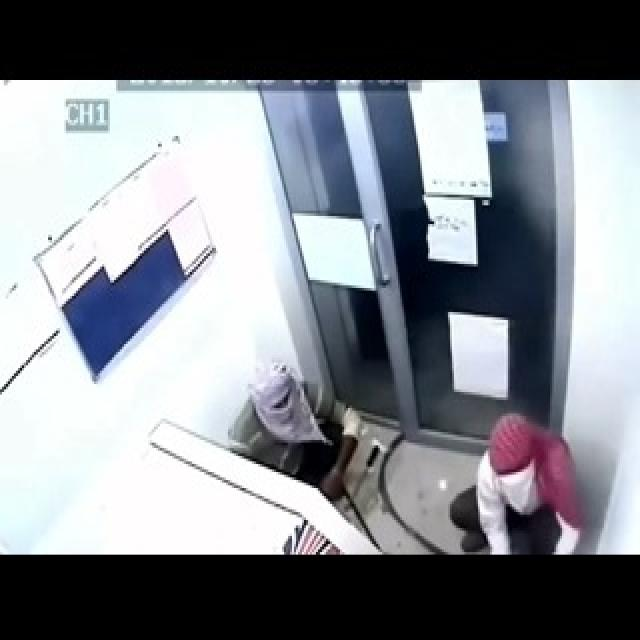thief: (251, 372, 590, 576)
